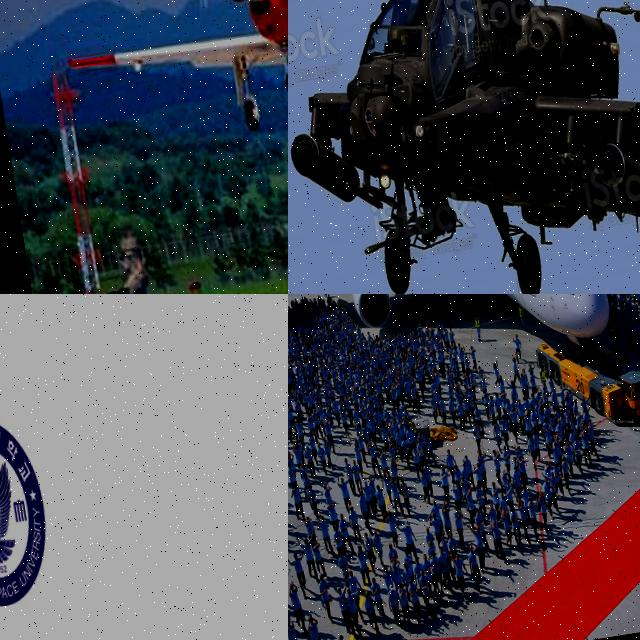A380: (288, 294, 640, 395)
Apache: (288, 0, 640, 294)
KAU_Marker: (0, 408, 59, 612)
KT-1: (42, 0, 288, 152)
